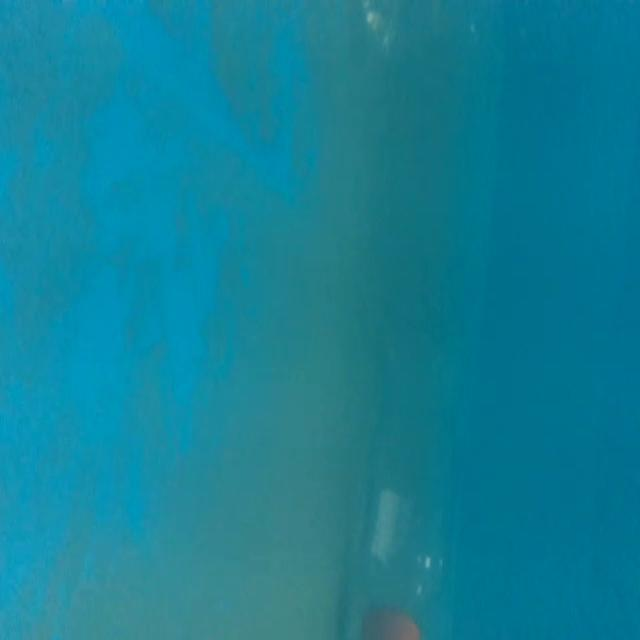plastic bottle: (352, 324, 460, 640)
